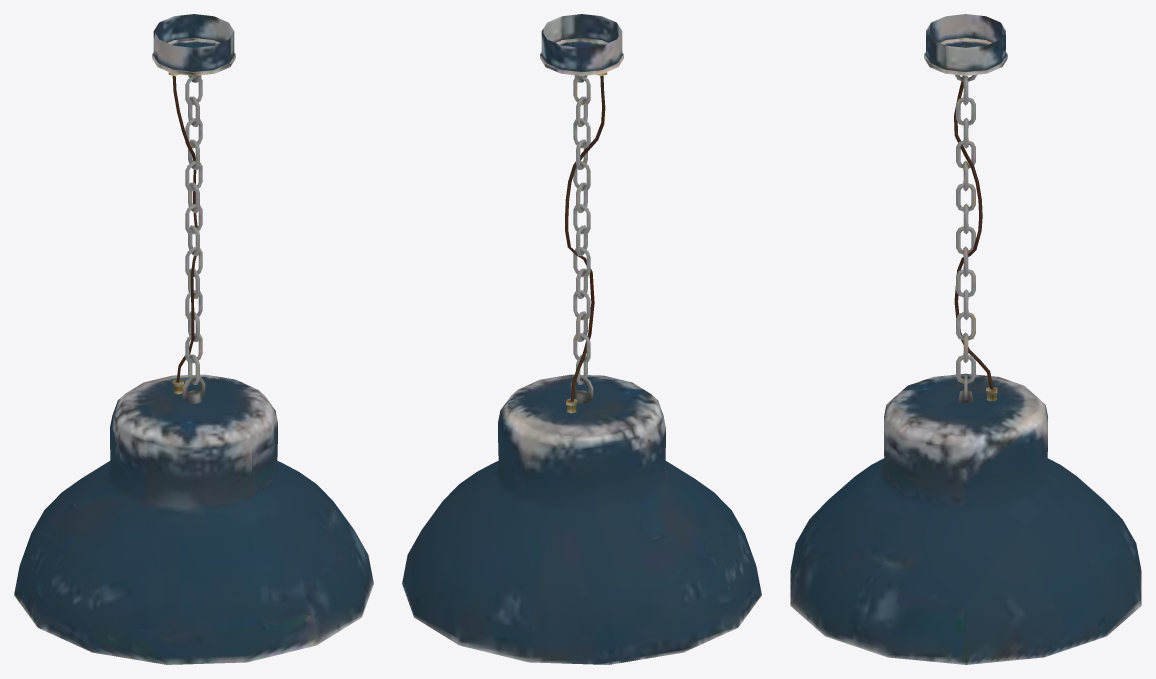
File: luz_colgante_industrial.glb
The picture shows the model from 3 angles, left to right: view 1: azimuth 30°, elevation 25°; view 2: azimuth 150°, elevation 25°; view 3: azimuth 270°, elevation 25°; orthographic projection.
Visible parts, largest first — view 1: BezierCurve__0; view 2: BezierCurve__0; view 3: BezierCurve__0.
Boxes of the visible parts, x1,y1,x2,y2 form: BezierCurve__0: (14,14,373,664); BezierCurve__0: (402,14,761,664); BezierCurve__0: (790,14,1141,664).
Size of the model in its own units: 0.234 by 0.4 by 0.2282.
1 material, 1 textured.
